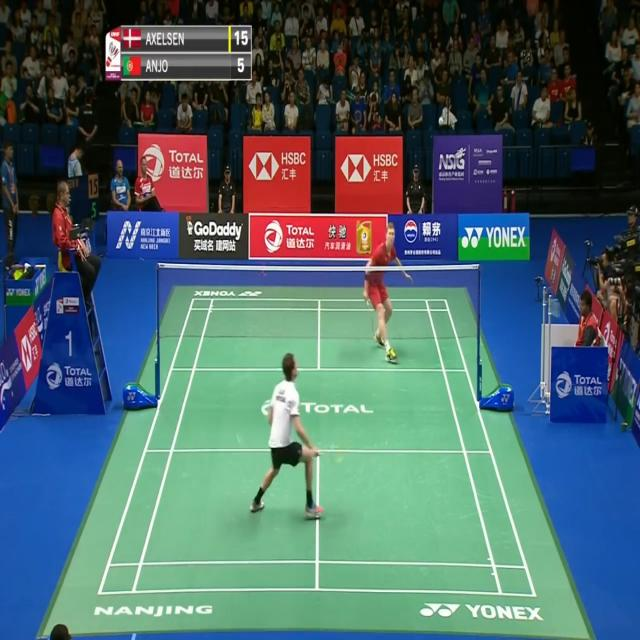Player1: (244, 338, 330, 532)
Player2: (356, 212, 416, 370)
